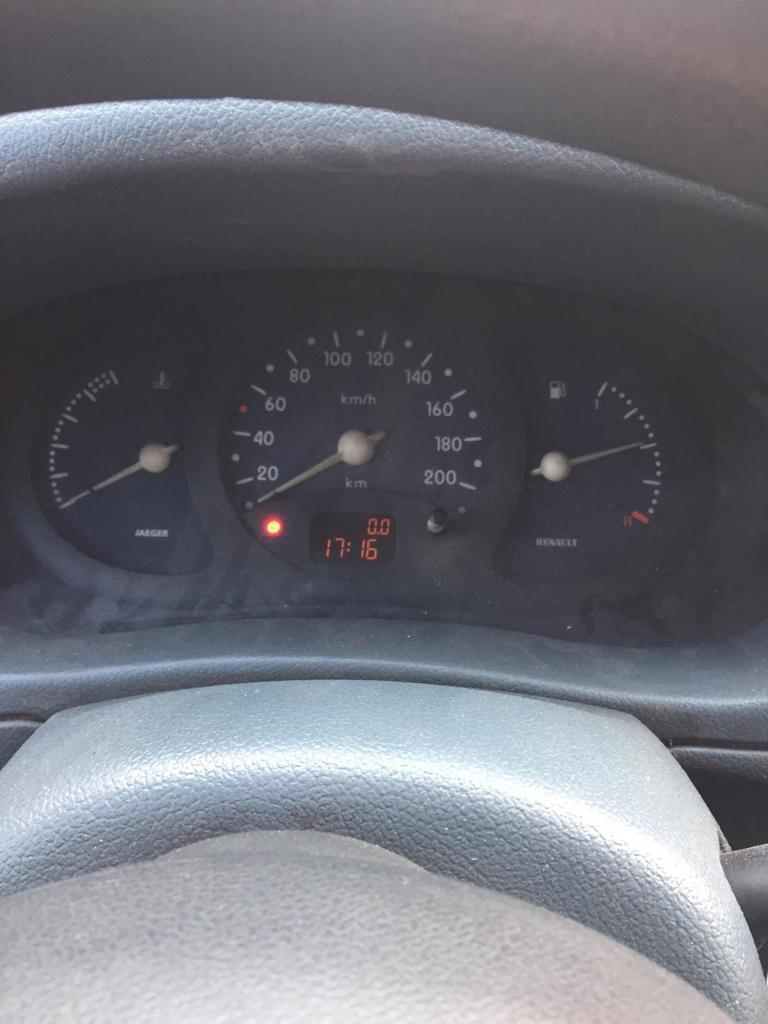,: (377, 530, 380, 536)
0: (366, 517, 377, 535), (380, 517, 390, 535)
1: (324, 537, 332, 557), (358, 538, 365, 559)
6: (365, 537, 378, 560)
7: (334, 536, 345, 558)
X: (346, 540, 350, 553)
odometer: (304, 510, 401, 568)
